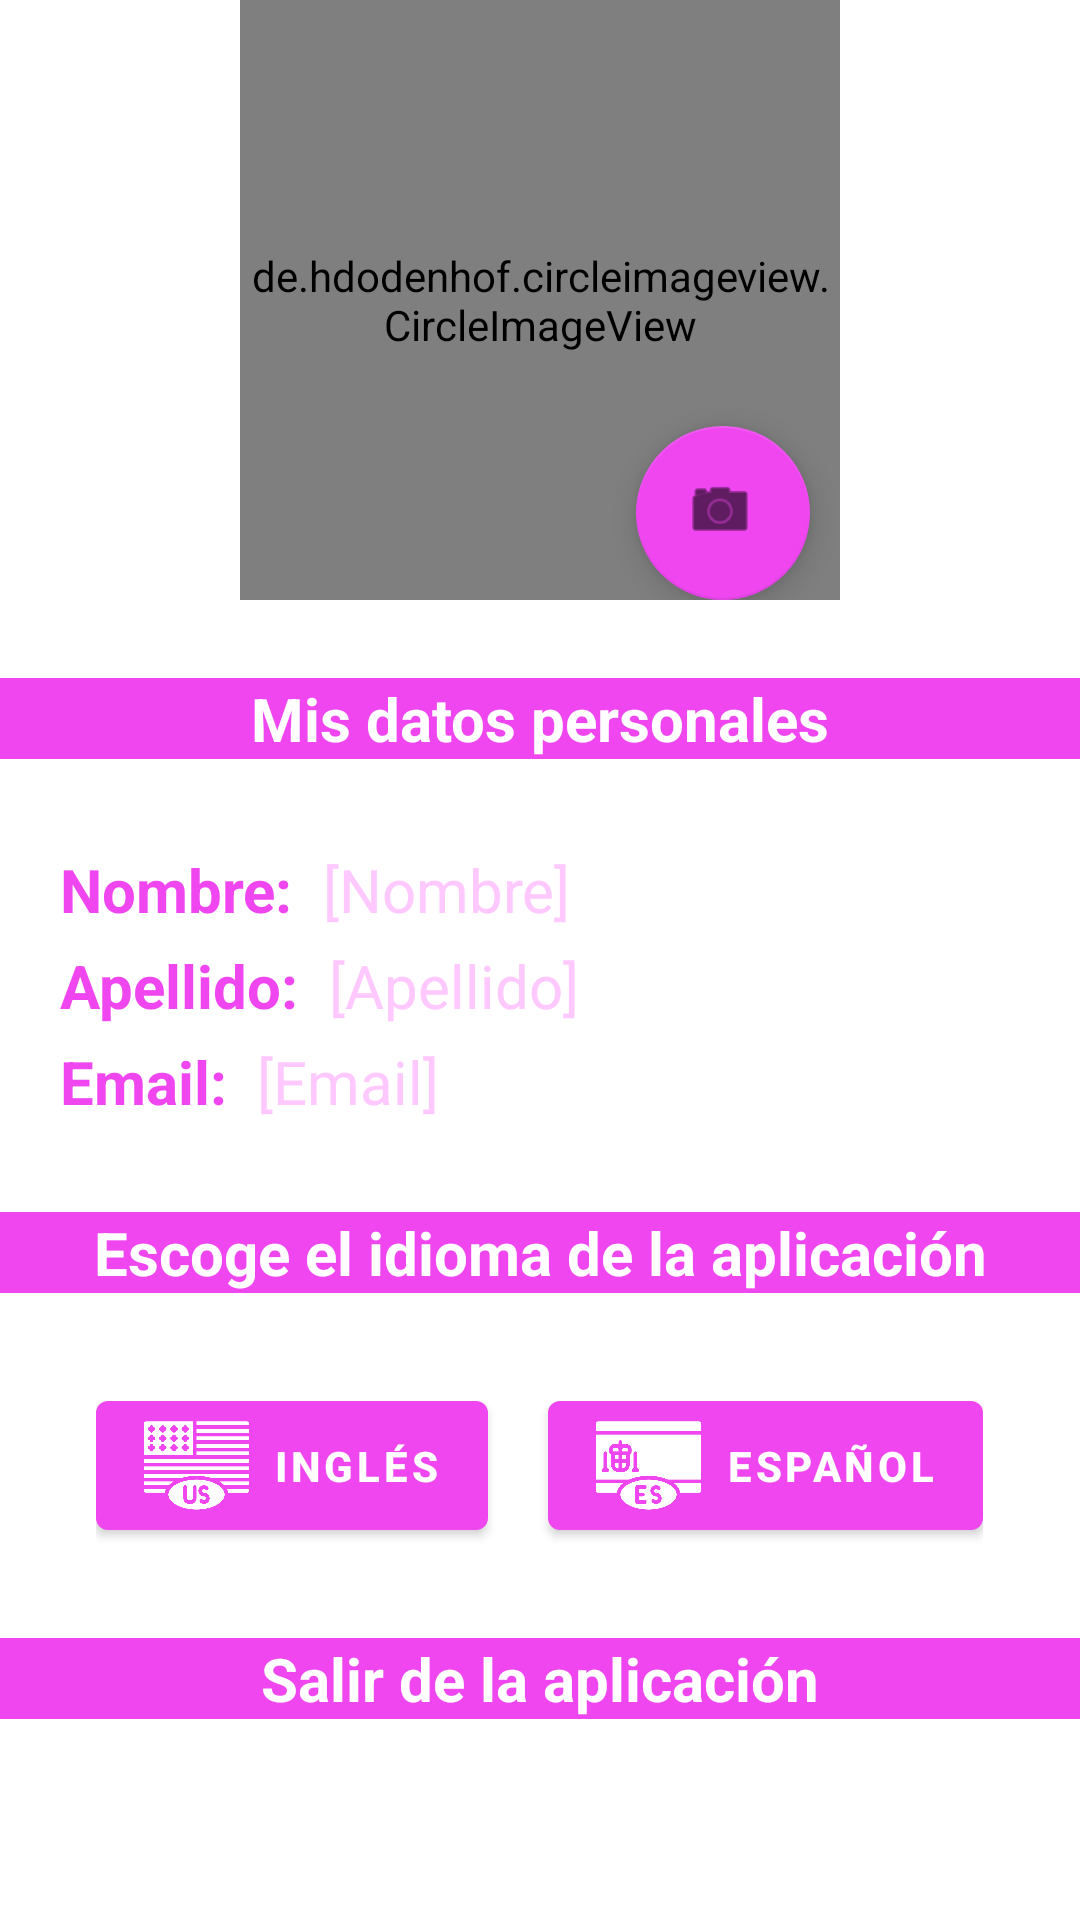

Icon bounding boxes for this 1080x1920 phone screenshot, format (x1, y1, x2, y2):
camera: (636, 426, 810, 600)
